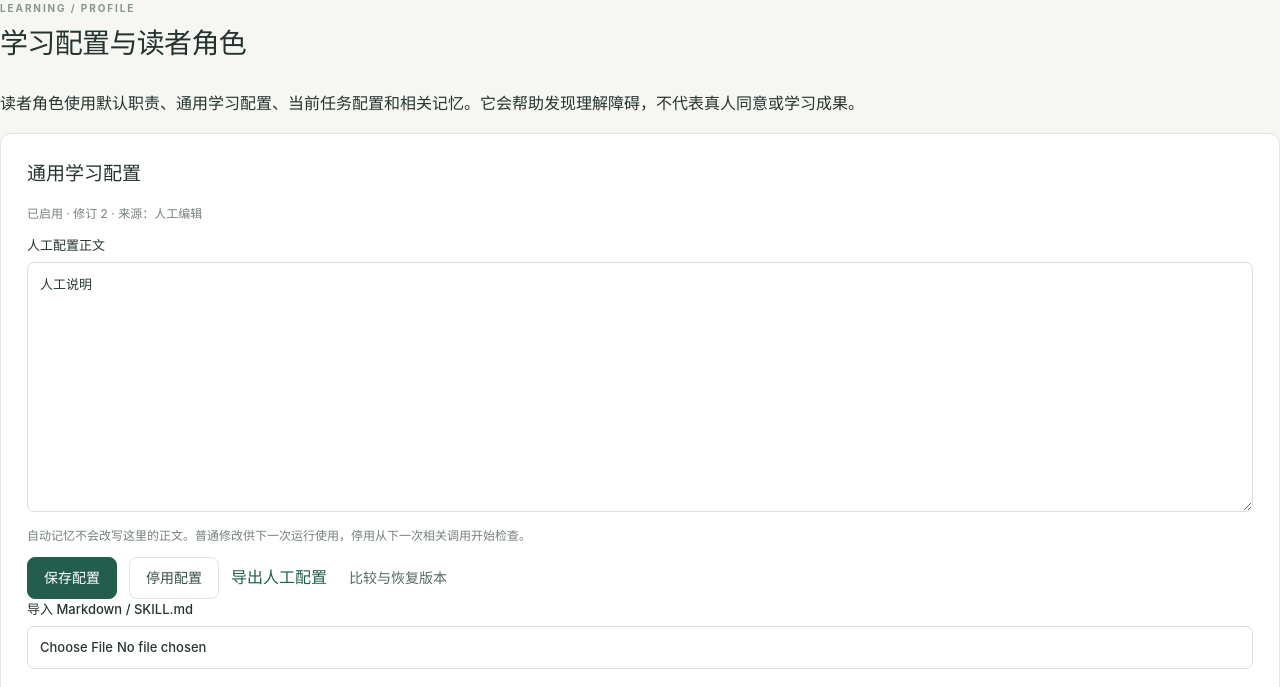
Test: keeps human-edited profile text when the displayed version conflicts
Replace the text in the text box labelled "人工配置正文" with "新的人工说明": (640, 387) [27, 262, 1253, 512]
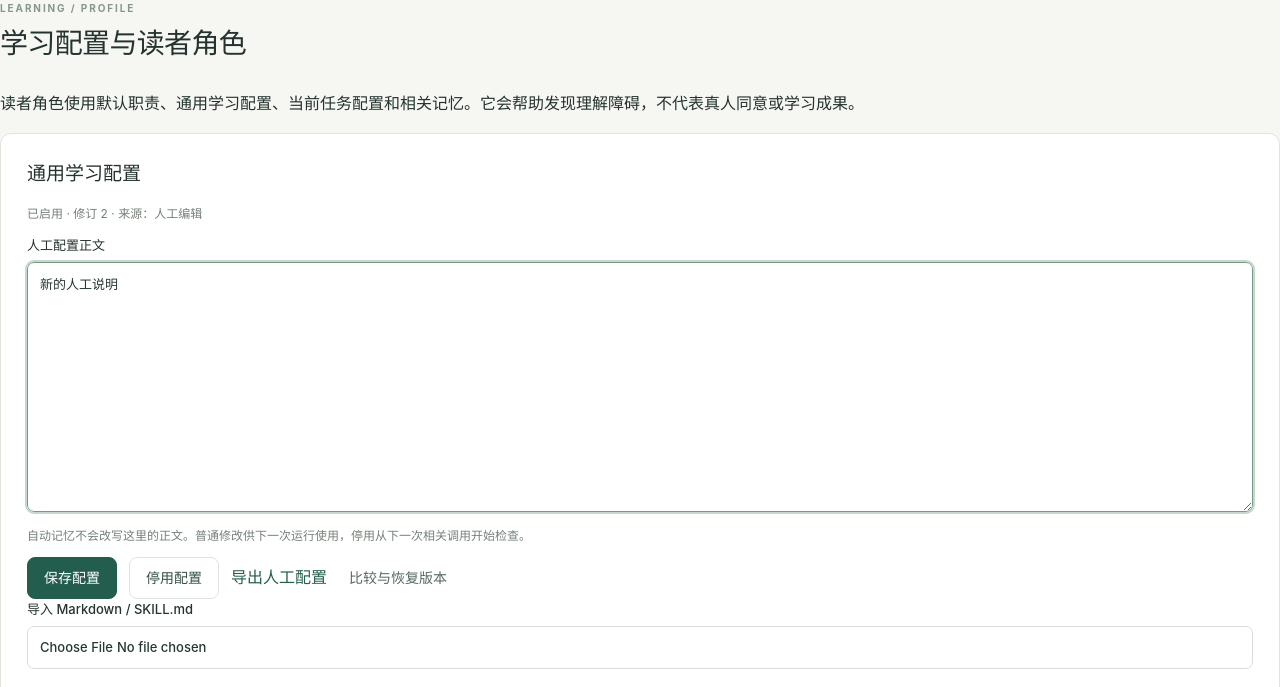
Click the button "保存配置": (72, 578) [27, 557, 117, 599]
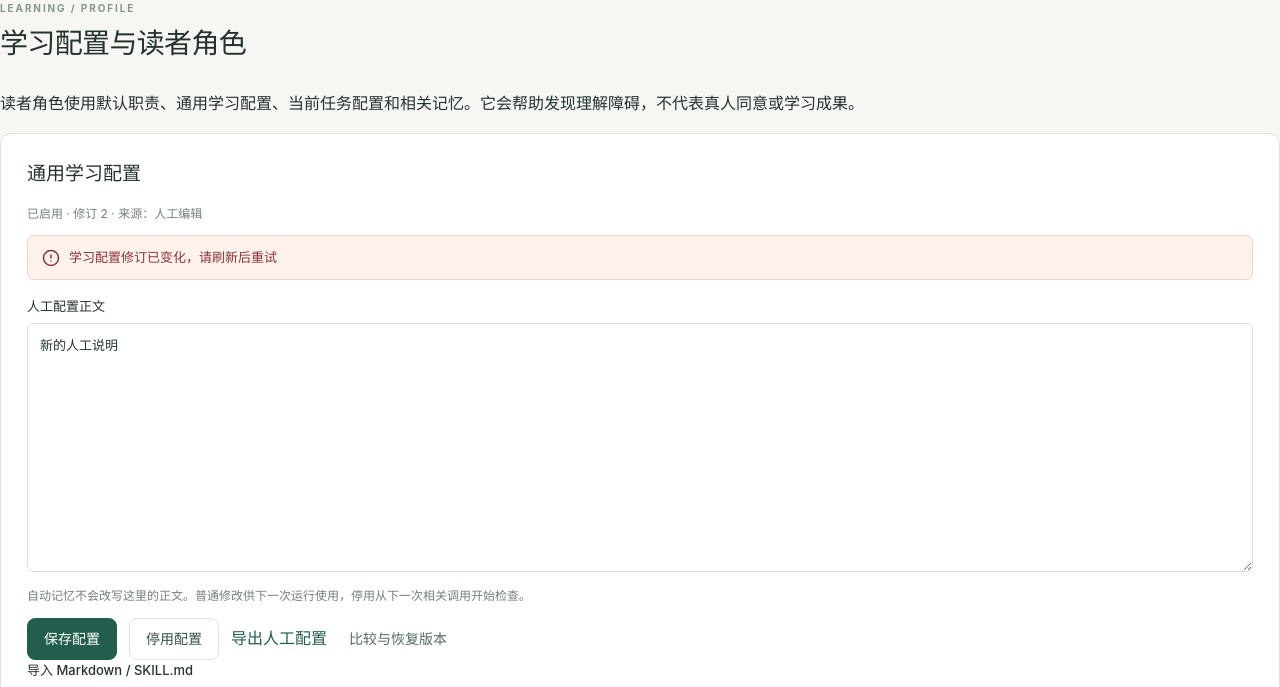
Result: the text "学习配置修订已变化，请刷新后重试" is shown at [69, 247, 277, 268]
